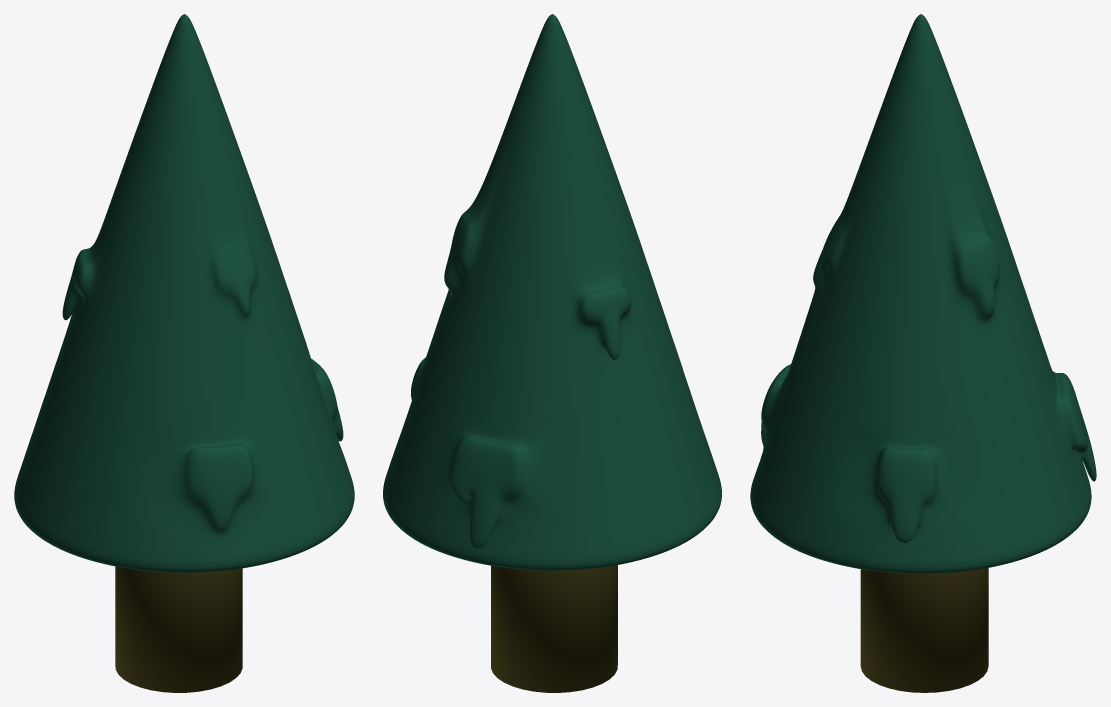
File: pino_001.glb
The picture shows the model from 3 angles, left to right: view 1: azimuth 30°, elevation 25°; view 2: azimuth 150°, elevation 25°; view 3: azimuth 270°, elevation 25°; orthographic projection.
Parts seen in each view (by area): view 1: pino-col; view 2: pino-col; view 3: pino-col.
Part boxes in pixels (left/top/right/bottom): pino-col: left=14, top=14, right=354, bottom=692; pino-col: left=383, top=14, right=721, bottom=692; pino-col: left=750, top=14, right=1096, bottom=692.
Bounding box in the file's own units: 7.66 × 16.12 × 7.73.
